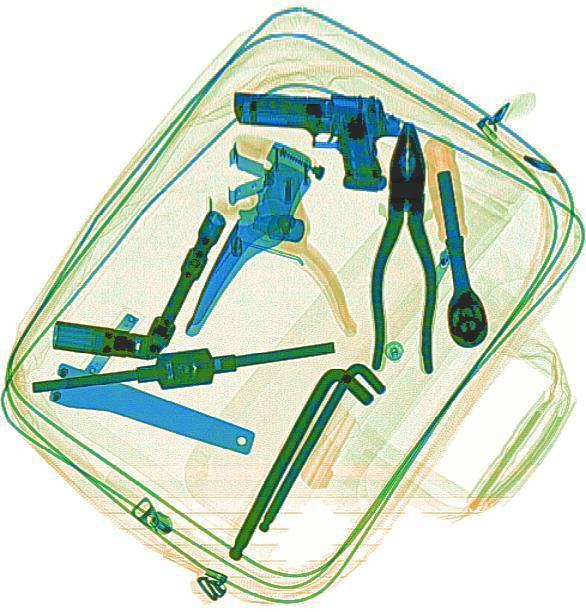Gun: (225, 87, 395, 191)
Pliers: (371, 120, 438, 375)
